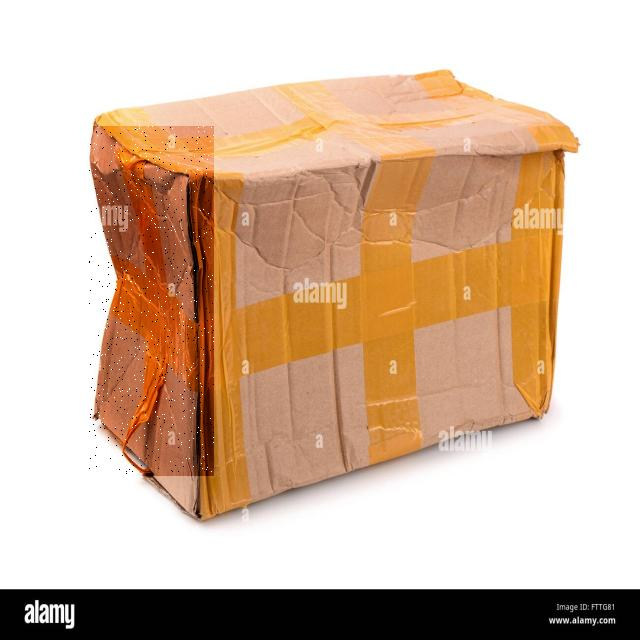squeeze: (89, 127, 214, 474)
